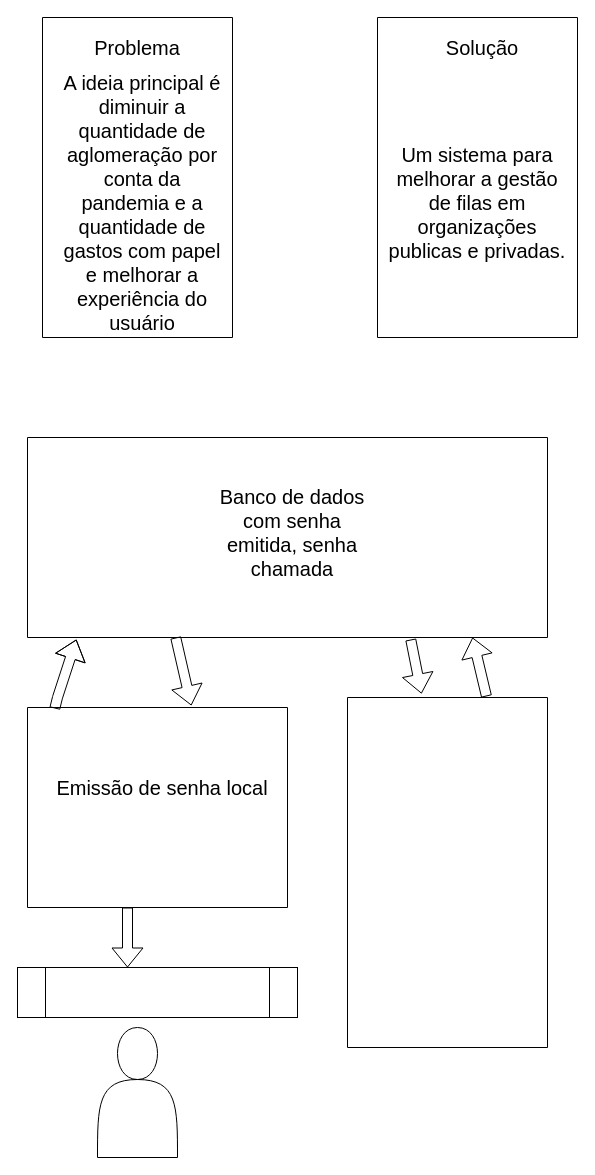
Some shapes in this 595 by 1175 pixel diagram are drawn without their labels. Each missing label, with the box of its shape:
Emitir senha on-line: (346, 696, 548, 1048)
Impressão para usuario: (16, 966, 298, 1018)
